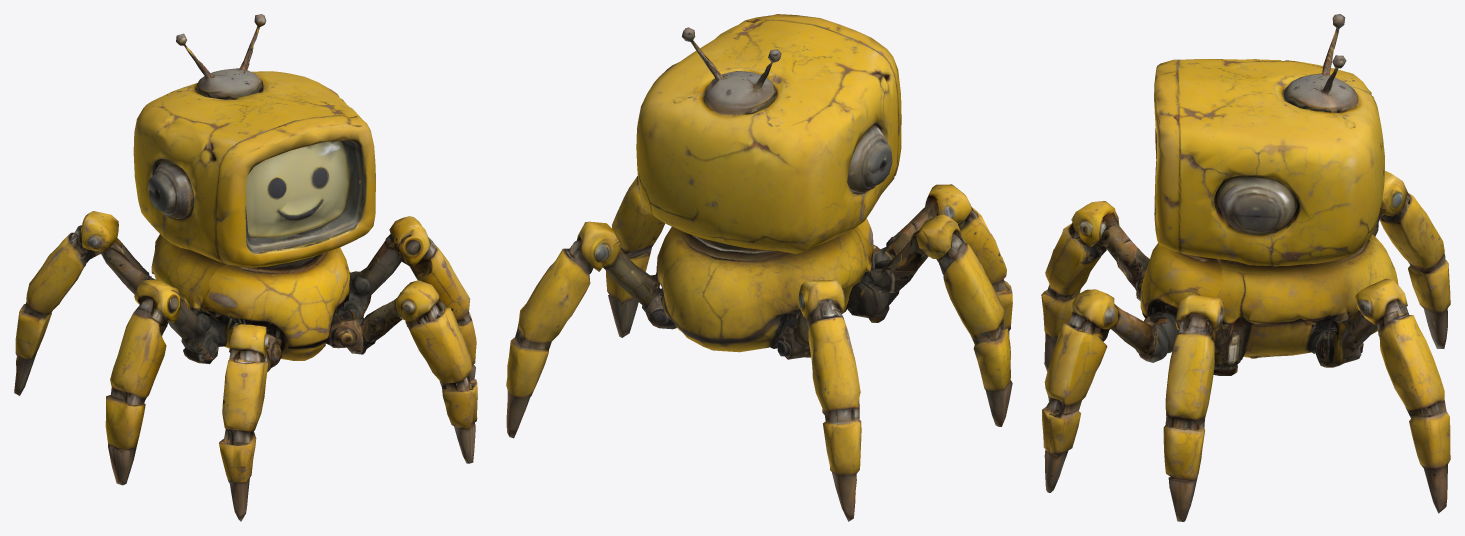
File: robotYellow.glb
3 renders of one model, left to right at view 1: azimuth 30°, elevation 25°; view 2: azimuth 150°, elevation 25°; view 3: azimuth 270°, elevation 25°, orthographic. The views are drawn at different scales.
Bounding box in the file's own units: 2 × 1.95 × 1.81.
Materials: 1 (1 with a texture image).
